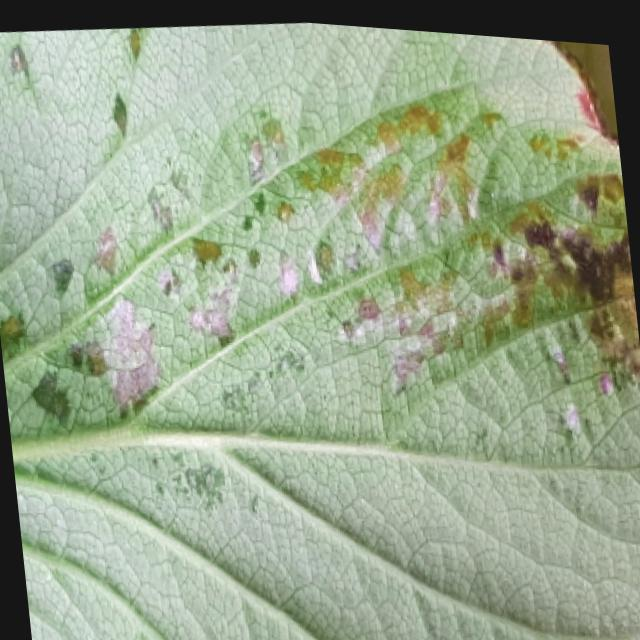Angular Leafspot: (0, 24, 640, 514)
